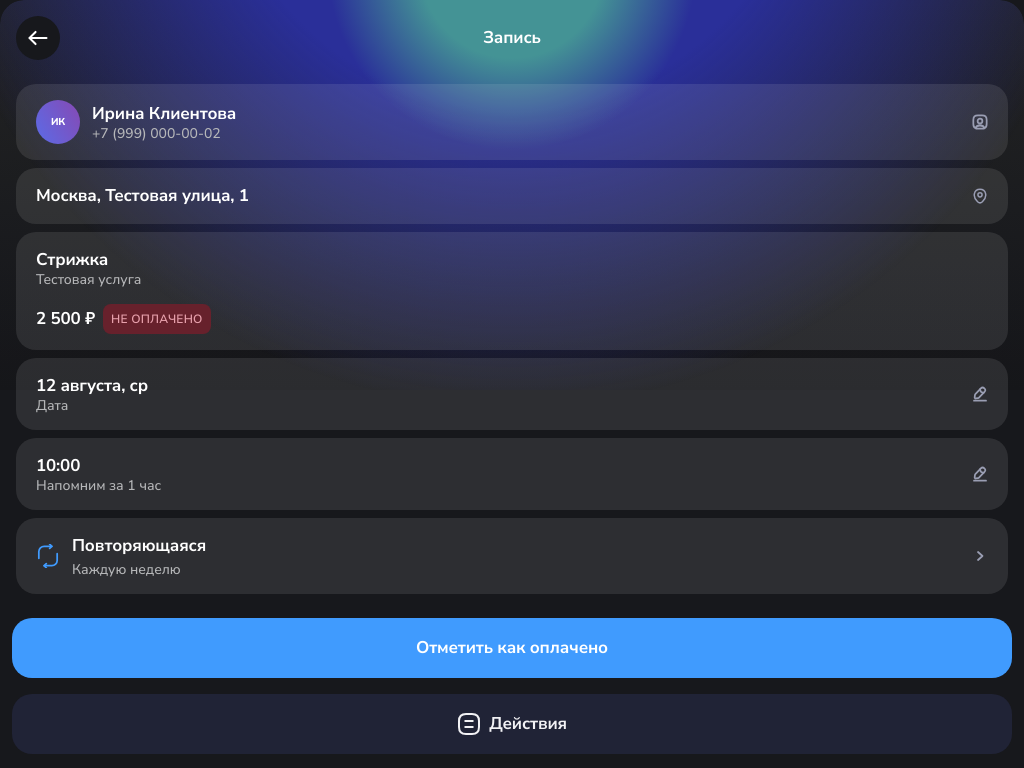
Scenario: master BookingDetailPage mutations › batch cancel version conflict перечитывает версию и требует новое подтверждение
The image size is (1024, 768).
Expected: the text "Ирина Клиентова" is shown, left=92, top=102, right=236, bottom=125
Click the button "Действия": [512, 724] box left=12, top=694, right=1012, bottom=754
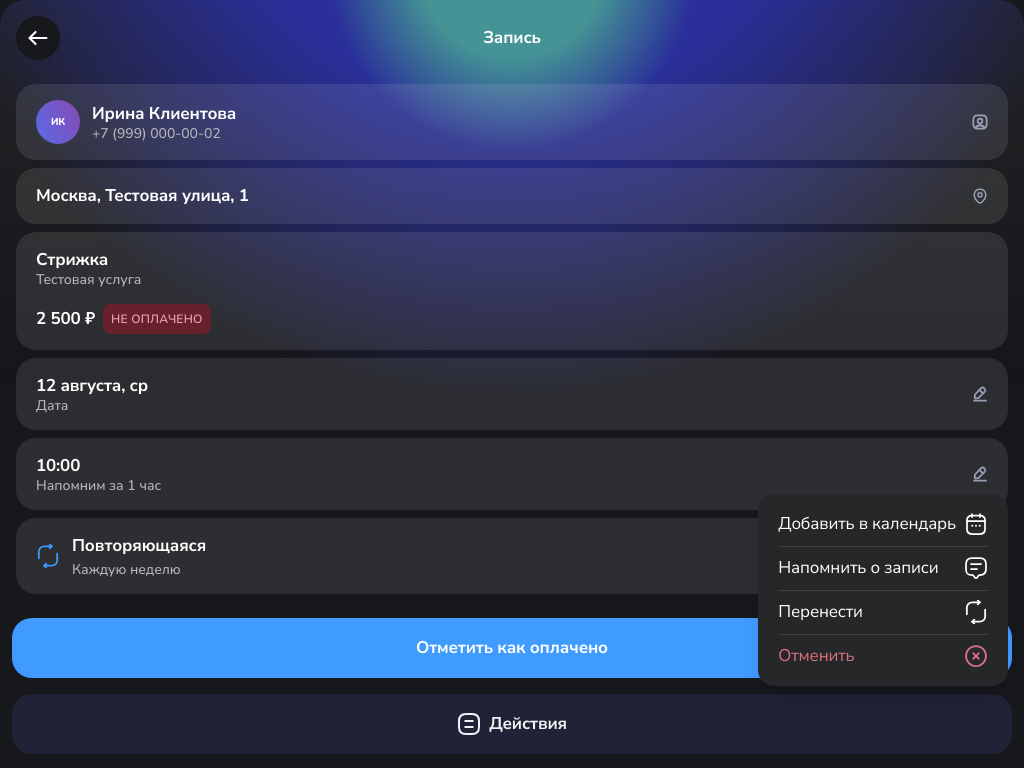
Click the menu item "Отменить": [883, 656] box left=778, top=638, right=988, bottom=674
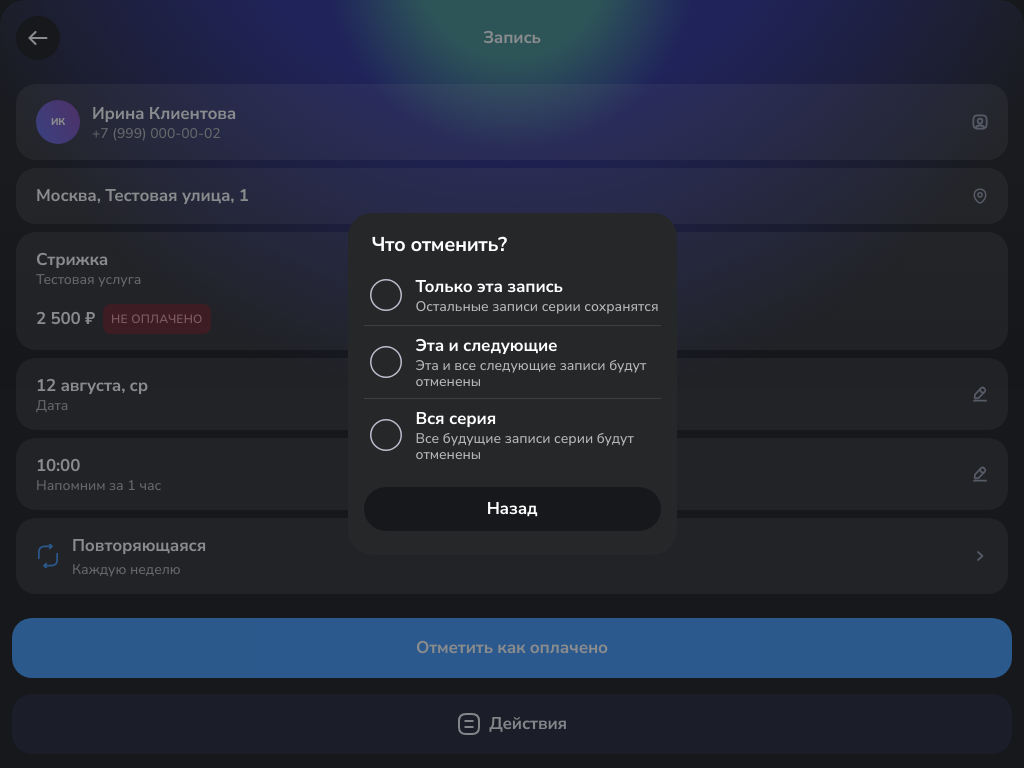
Click the radio button labelled "Вся серия Все будущие записи серии будут отменены": [512, 435] box left=364, top=399, right=660, bottom=471
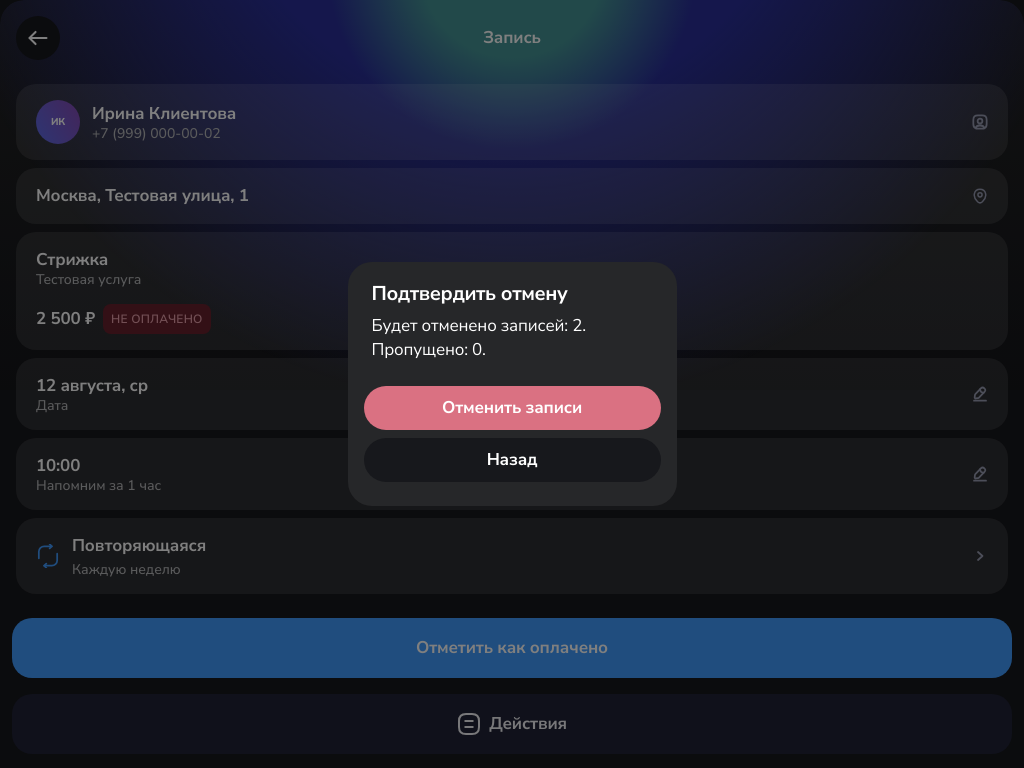
Click the button "Отменить записи": [512, 408] box left=364, top=386, right=660, bottom=430
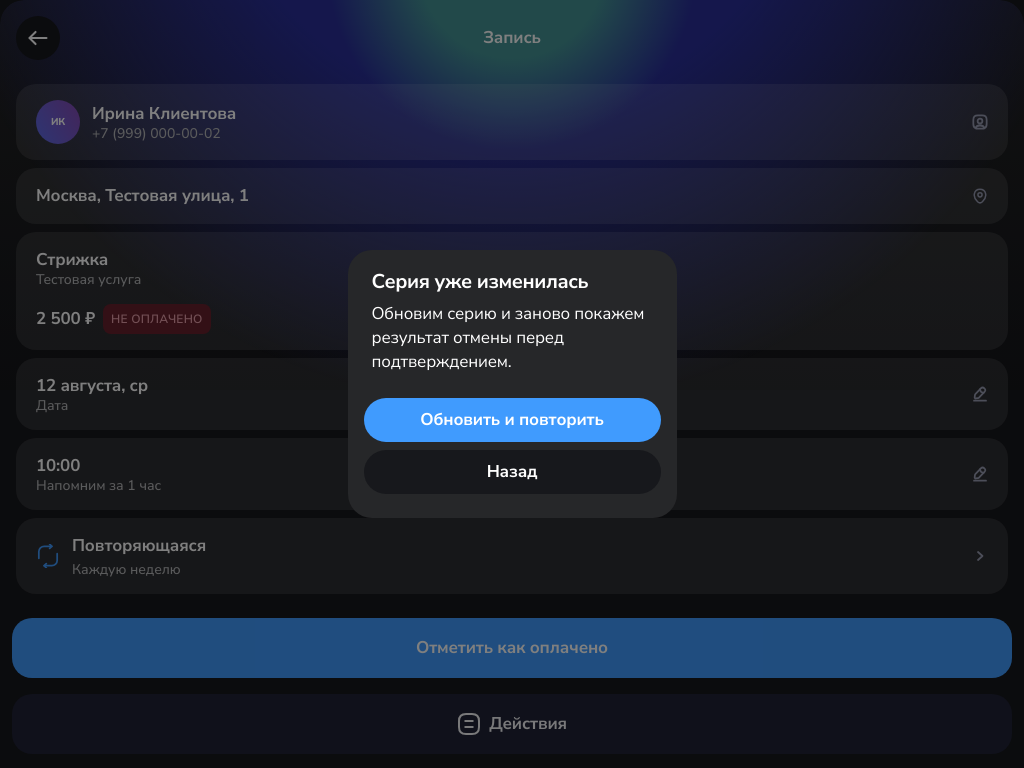
Click the button "Обновить и повторить": [512, 420] box left=364, top=398, right=660, bottom=442
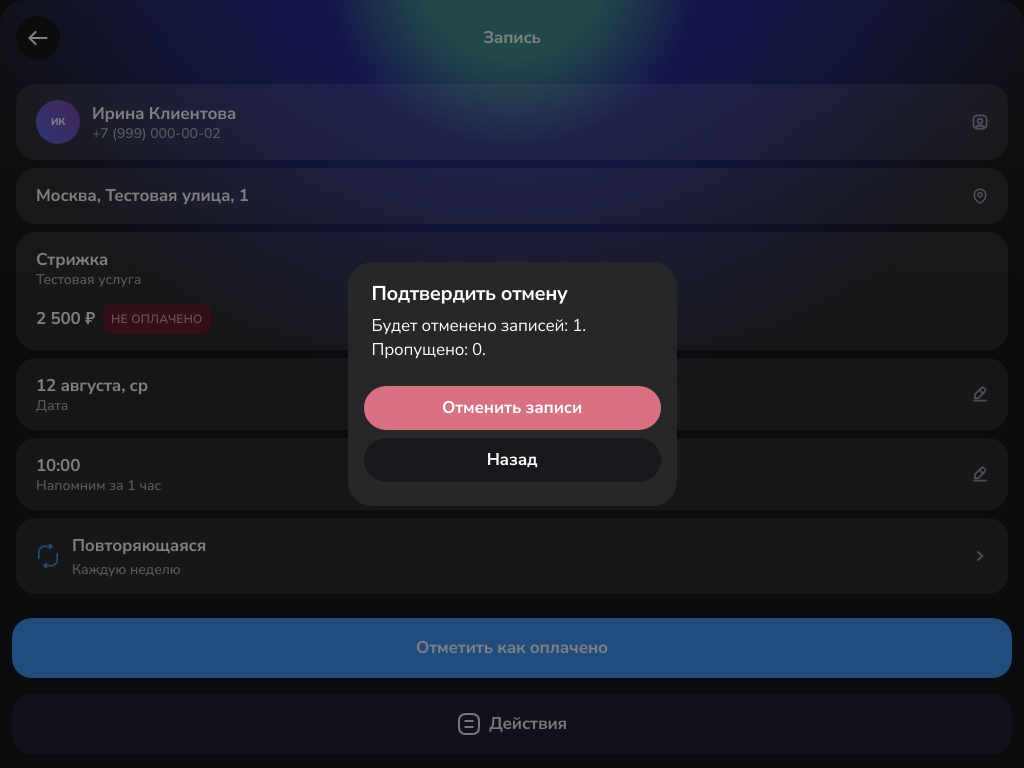
Expected: the text "Будет отменено записей: 1. Пропущено: 0." is shown, left=372, top=314, right=586, bottom=361
